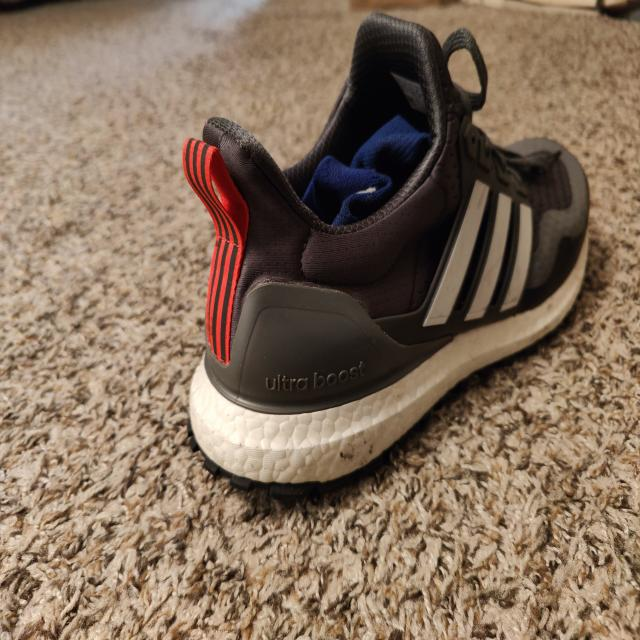black shoes: (185, 111, 590, 480)
